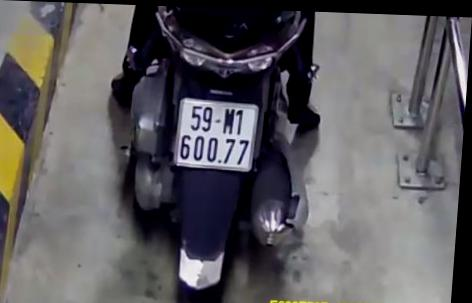License_Plate: (167, 97, 269, 179)
